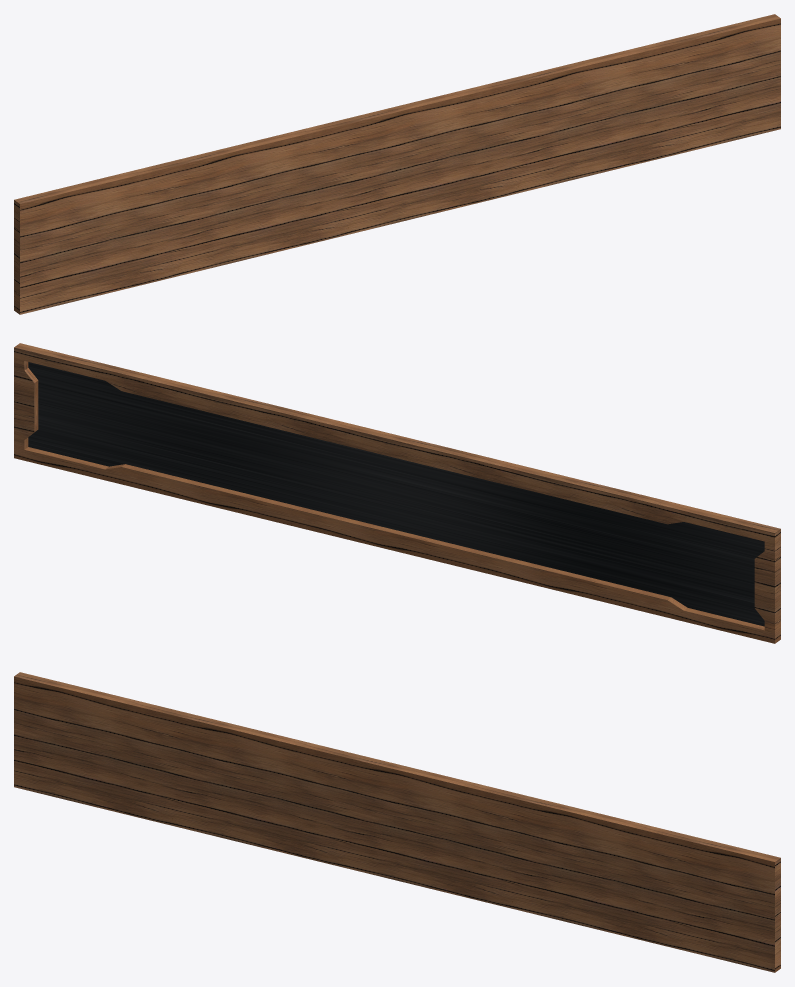
Rendered from scoreboardmesh.fbx.
3 views of the same model, one above another, from view 1: azimuth 30°, elevation 25°; view 2: azimuth 150°, elevation 25°; view 3: azimuth 330°, elevation 25° (orthographic).
Parts seen in each view (by area): view 1: scoreboardmesh; view 2: scoreboardmesh; view 3: scoreboardmesh.
Part boxes in pixels (x1,y1,x2,y2): scoreboardmesh: (14, 14, 780, 314); scoreboardmesh: (14, 343, 780, 643); scoreboardmesh: (14, 672, 780, 972).
Bounding box in the file's own units: 6.95 × 0.9656 × 0.0946.
